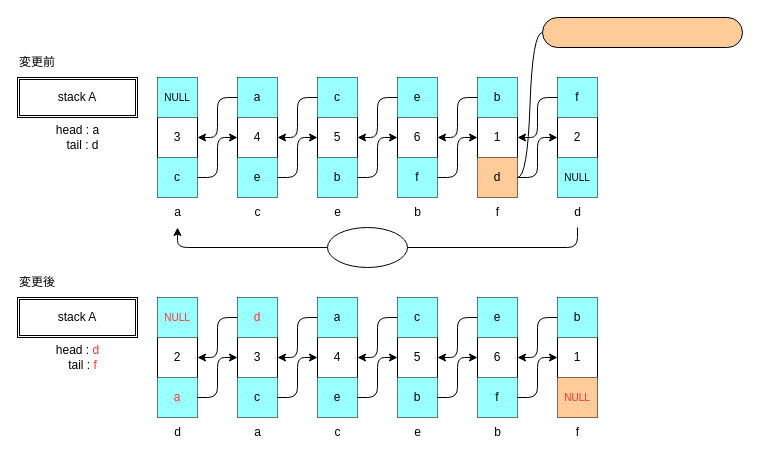
Some shapes in this 760 by 465 pixel diagram are drawn without their labels. The centre of each missing label's shape, as x and y in pixels:
"rra" goes at [367,247].
"tail -> prevでアクセスできる" goes at [642,32].
